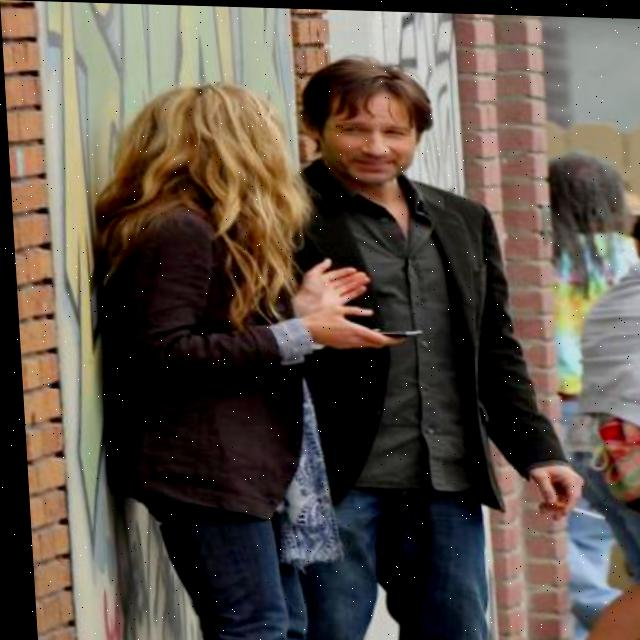cigarette: (541, 497, 602, 518)
